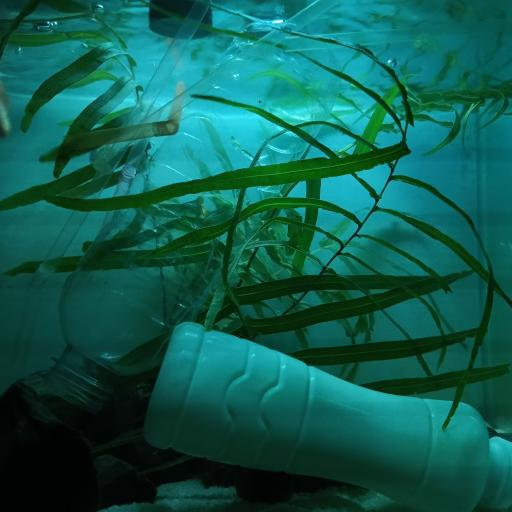bottle_cap: (150, 7, 212, 41)
plastic_bottle: (44, 18, 346, 417), (144, 321, 512, 512)
plastic_straw: (27, 0, 219, 284), (99, 0, 335, 155), (103, 102, 162, 244), (280, 27, 472, 55)
